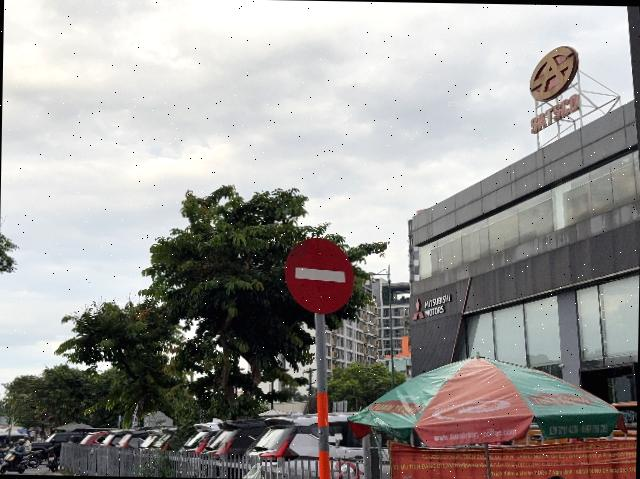cam-di-nguoc-chieu: (284, 236, 355, 314)
